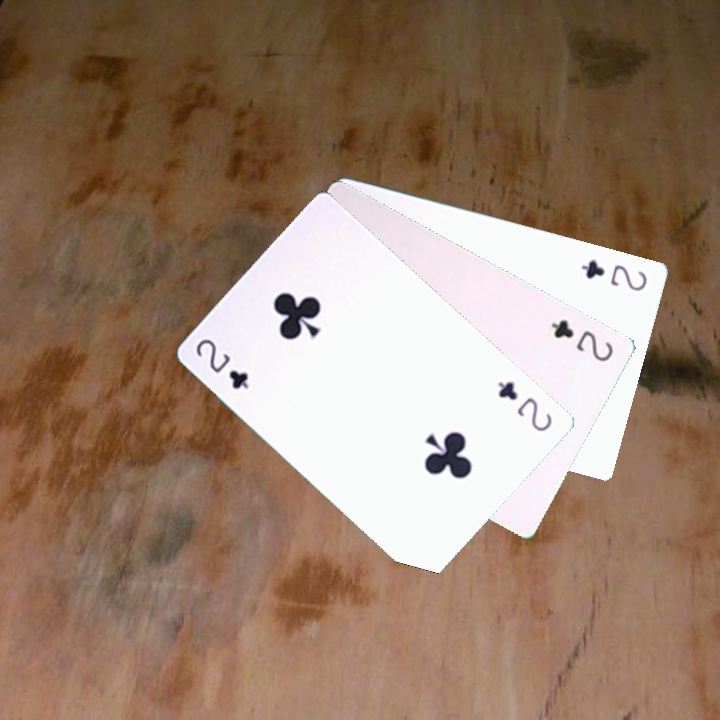2c: (493, 377, 555, 435), (191, 334, 252, 392), (547, 315, 616, 365), (577, 255, 650, 294)
